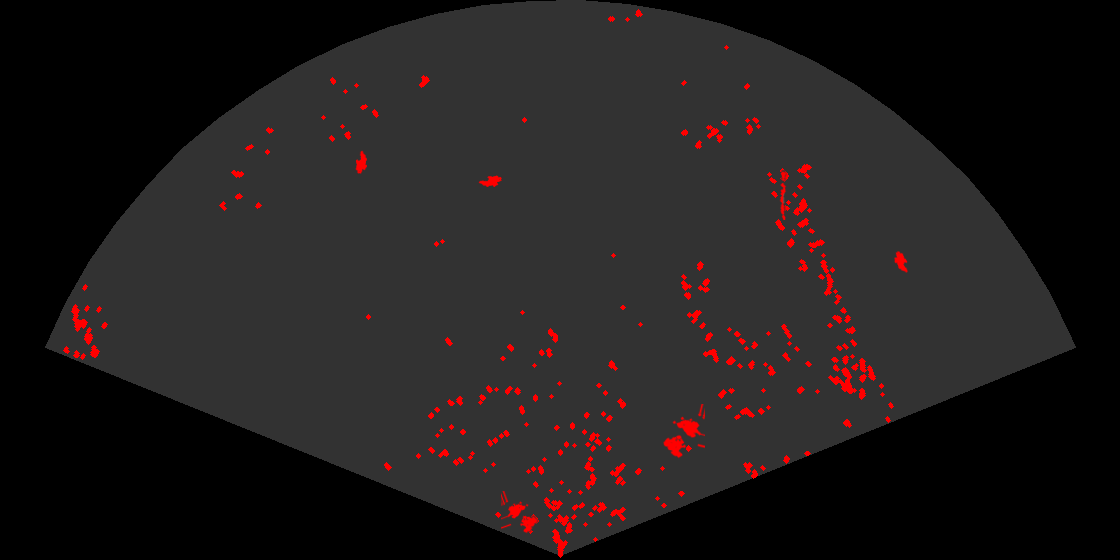AUV: (892, 249, 909, 274), (477, 174, 503, 188), (354, 149, 367, 175)
cage: (662, 404, 705, 460), (501, 491, 539, 535)
chain: (778, 170, 788, 220)
